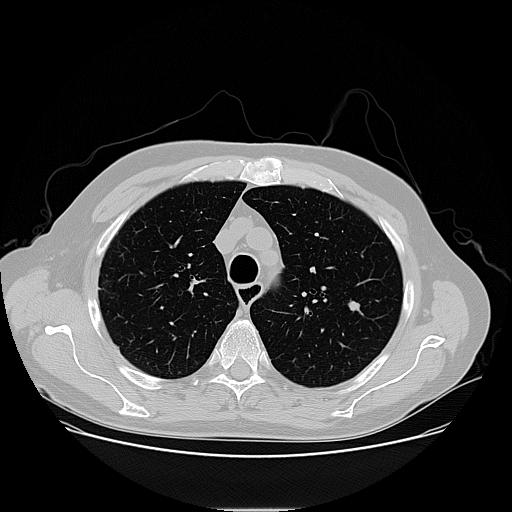nodule: (345, 297, 361, 313)
